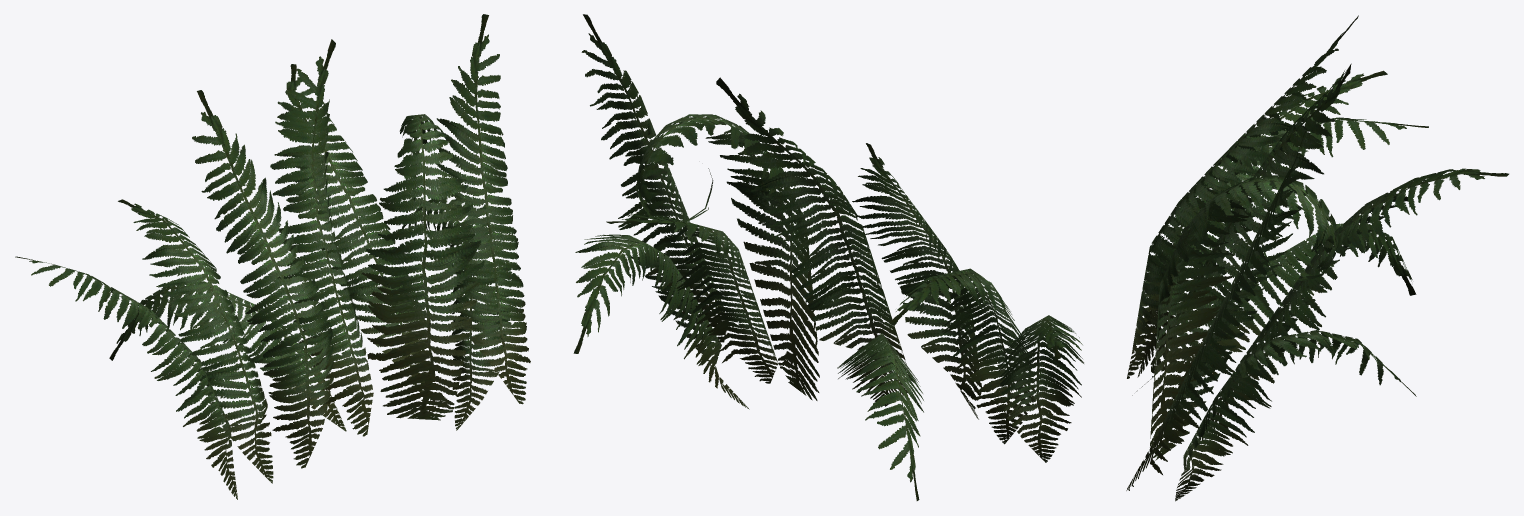
Rendered from shrub_cinnamon_fern02.DAE.
3 renders of one model, left to right at view 1: azimuth 30°, elevation 25°; view 2: azimuth 150°, elevation 25°; view 3: azimuth 270°, elevation 25°, orthographic. The views are drawn at different scales.
Visible parts, largest first — view 1: shrub_cinnamonfern01_CinnamonFernFrond001; view 2: shrub_cinnamonfern01_CinnamonFernFrond001; view 3: shrub_cinnamonfern01_CinnamonFernFrond001.
Part boxes in pixels (x1,y1,x2,y2): shrub_cinnamonfern01_CinnamonFernFrond001: (15, 14, 530, 499); shrub_cinnamonfern01_CinnamonFernFrond001: (573, 14, 1083, 500); shrub_cinnamonfern01_CinnamonFernFrond001: (1126, 15, 1508, 501).
Size of the model in its own units: 1.77 by 1.32 by 1.11.
